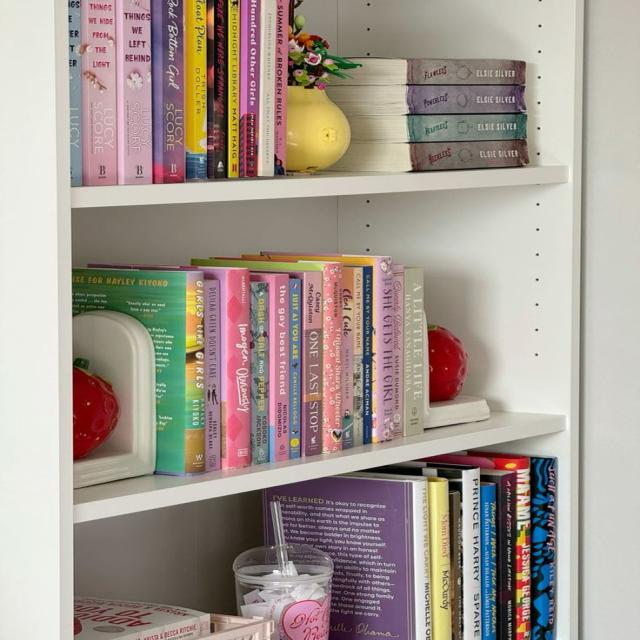book: (390, 459, 479, 639), (484, 453, 530, 639), (78, 0, 117, 185), (150, 0, 185, 183), (118, 0, 152, 184), (481, 469, 516, 639), (226, 268, 252, 468), (530, 456, 556, 639), (183, 0, 206, 179), (186, 272, 205, 475), (250, 281, 270, 464), (207, 0, 227, 178), (411, 477, 432, 640), (404, 268, 424, 435), (432, 480, 452, 640), (304, 272, 321, 455), (324, 262, 340, 452), (410, 86, 526, 112), (409, 59, 525, 84), (204, 280, 219, 470), (272, 276, 287, 460), (243, 0, 258, 177), (408, 116, 528, 138), (410, 144, 530, 166), (275, 0, 290, 174), (225, 0, 239, 177), (68, 0, 81, 186), (481, 481, 496, 639), (339, 268, 352, 448), (449, 481, 463, 639), (378, 256, 390, 440), (263, 0, 275, 176), (289, 279, 300, 459), (363, 267, 373, 443), (392, 264, 402, 438), (354, 268, 363, 445)
